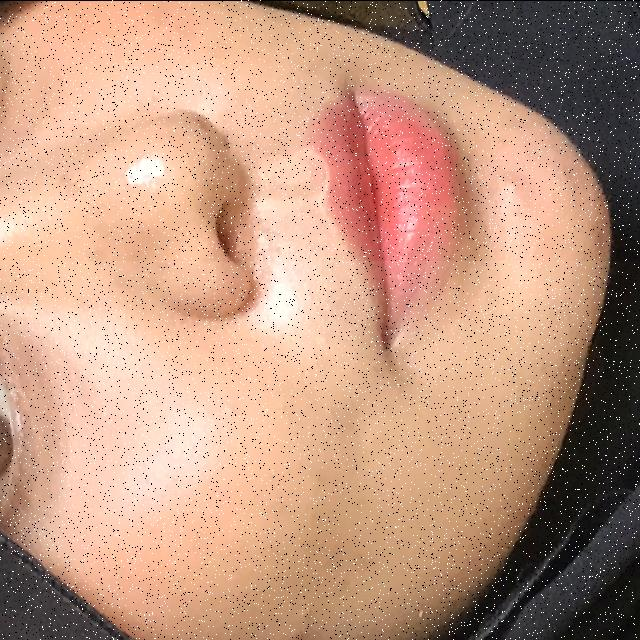mendengar: (0, 260, 640, 640)
